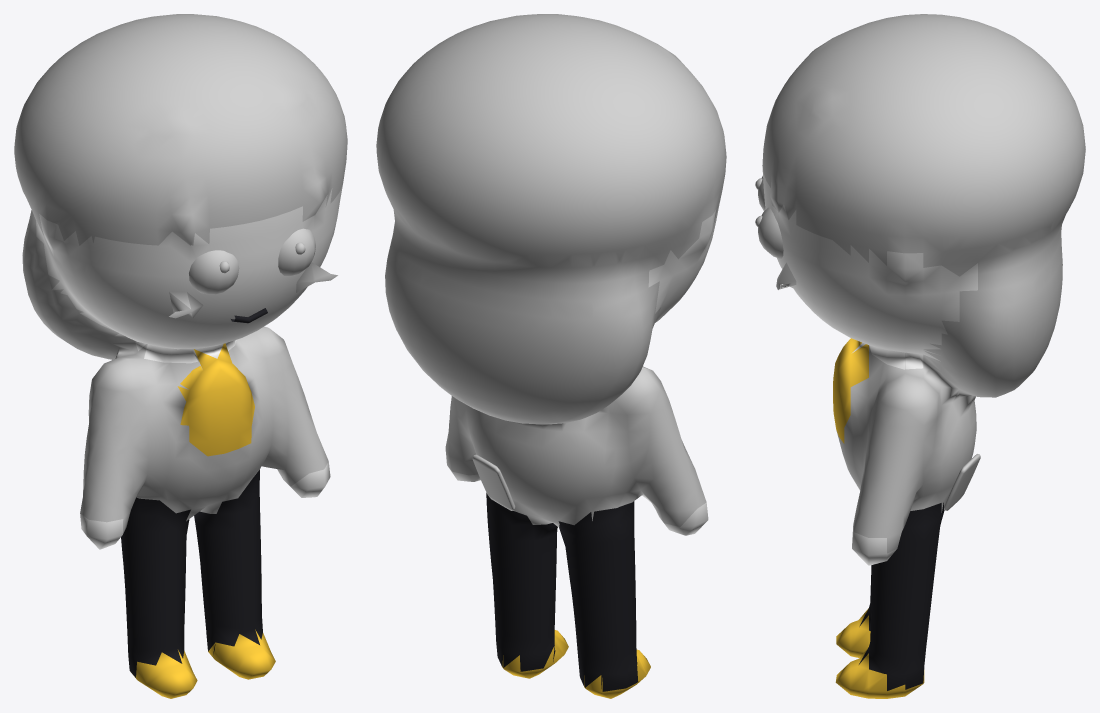
File: idol_boy_c.fbx
The picture shows the model from 3 angles, left to right: view 1: azimuth 30°, elevation 25°; view 2: azimuth 150°, elevation 25°; view 3: azimuth 270°, elevation 25°; orthographic projection. The views are drawn at different scales.
Parts seen in each view (by area): view 1: idol_boy_c; view 2: idol_boy_c; view 3: idol_boy_c.
Part boxes in pixels (box(x1,y1,x2,y2)): idol_boy_c: box(14, 14, 347, 698); idol_boy_c: box(376, 14, 726, 698); idol_boy_c: box(755, 14, 1085, 698).
Bounding box in the file's own units: 0.6 × 1.23 × 0.5766.
